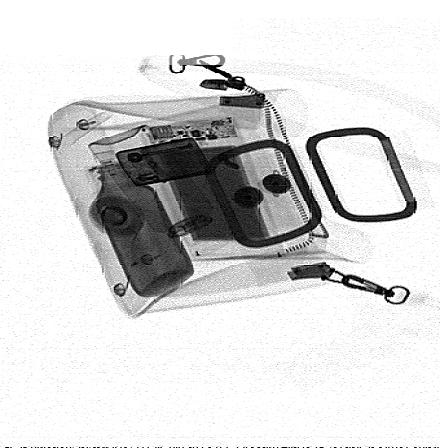Lighter: (116, 136, 218, 187)
Powerbank: (138, 115, 285, 257)
Sprayer: (88, 125, 230, 259)
